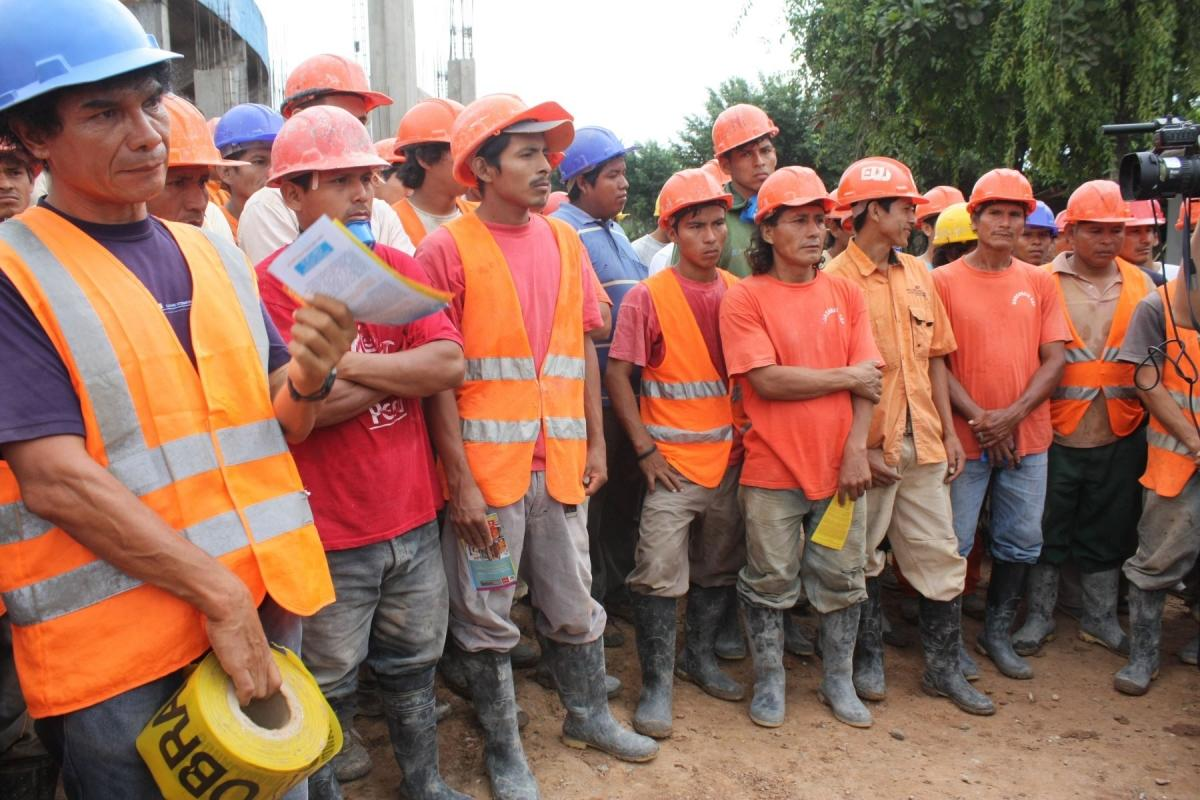hat: (1, 1, 199, 209), (259, 95, 391, 245), (441, 91, 583, 219), (735, 155, 849, 293), (265, 29, 405, 139), (819, 137, 939, 263), (153, 77, 247, 221), (637, 159, 731, 283), (383, 73, 469, 205), (543, 107, 641, 219), (215, 83, 287, 215), (1051, 169, 1148, 266), (689, 95, 785, 187), (964, 158, 1041, 236), (911, 169, 961, 241), (1011, 191, 1064, 258), (1118, 179, 1171, 246), (371, 118, 421, 183), (931, 191, 978, 258), (533, 166, 579, 231), (1163, 173, 1200, 248)
no vest: (229, 223, 449, 571), (822, 242, 957, 518), (740, 252, 870, 498), (935, 262, 1072, 474), (708, 184, 765, 302)
vest: (3, 201, 338, 731), (411, 223, 619, 506), (629, 241, 754, 561), (1038, 250, 1147, 505), (554, 208, 653, 486), (1137, 270, 1200, 520), (381, 164, 499, 259)
